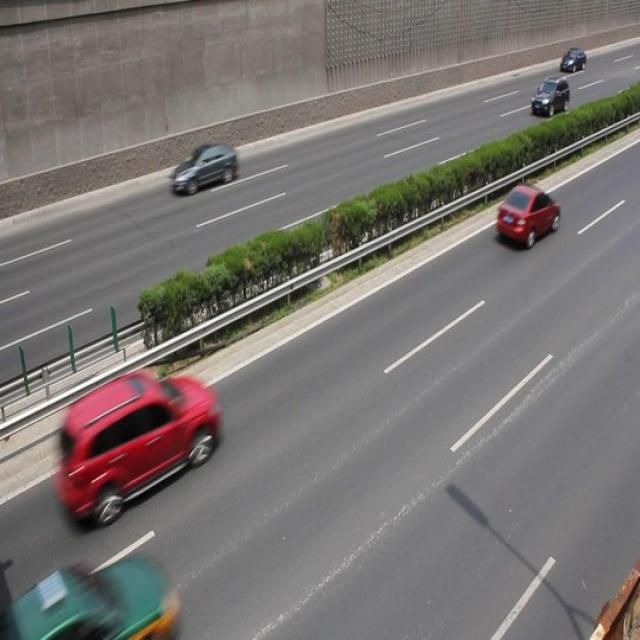car: (68, 369, 218, 526), (495, 183, 558, 248), (170, 142, 235, 198), (530, 75, 569, 117), (558, 47, 585, 74)
